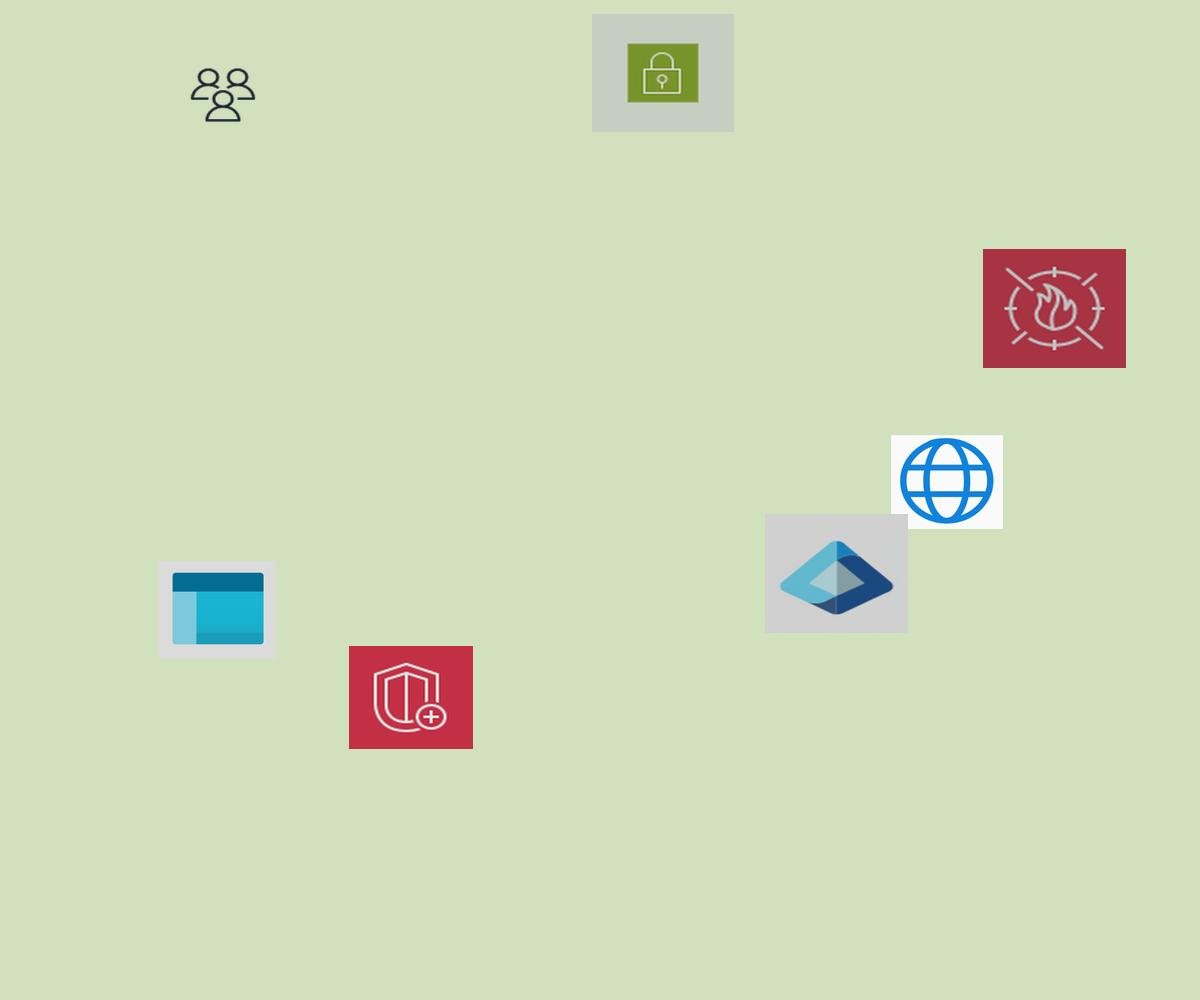AWS-Public-subnet: (592, 14, 734, 132)
AWS-Res_Users: (188, 66, 258, 124)
AWS-Shield: (349, 646, 473, 749)
AWS-WAF: (983, 249, 1126, 368)
Azure_http: (891, 435, 1003, 529)
Azure_management-portal: (158, 561, 276, 659)
Azure_microsoft_entra: (765, 514, 908, 633)
